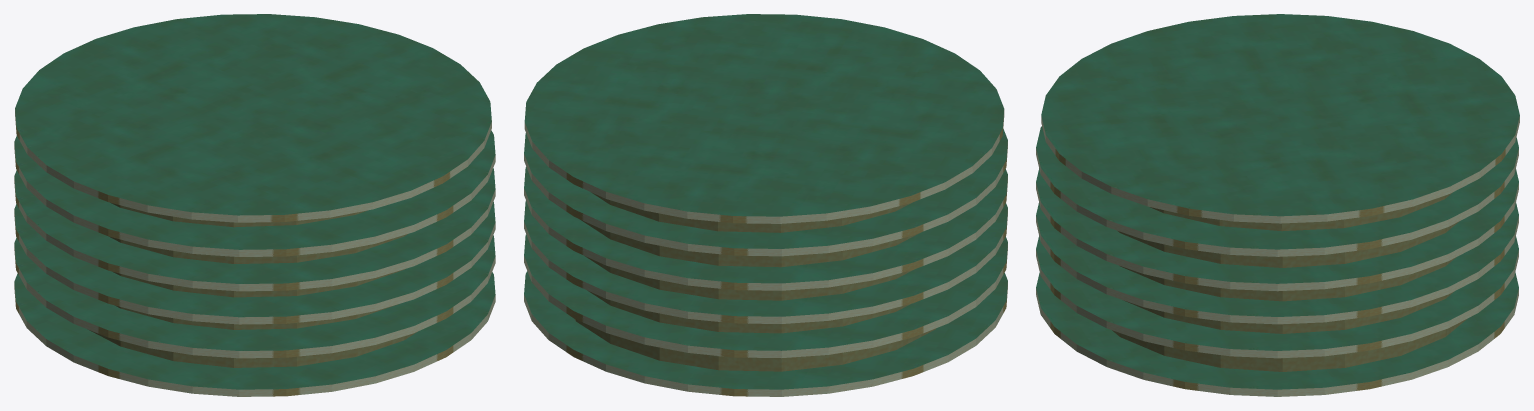
The picture shows the model from 3 angles, left to right: view 1: azimuth 30°, elevation 25°; view 2: azimuth 150°, elevation 25°; view 3: azimuth 270°, elevation 25°; orthographic projection.
Parts seen in each view (by area): view 1: Cylinder, Cylinder_5, Cylinder_1, Cylinder_4, Cylinder_2, Cylinder_3, Column__5_, Column__2_, Column__3_, Column__4_, Column_1_; view 2: Cylinder, Cylinder_5, Cylinder_4, Cylinder_2, Cylinder_1, Cylinder_3, Column__5_, Column__2_, Column__3_, Column__4_, Column_1_; view 3: Cylinder, Cylinder_5, Cylinder_1, Cylinder_4, Cylinder_2, Cylinder_3, Column__5_, Column__2_, Column__3_, Column__4_, Column_1_.
Boxes of the visible parts, x1=… form: Cylinder: x1=15, y1=14, x2=491, y2=222; Cylinder_5: x1=14, y1=272, x2=495, y2=396; Cylinder_1: x1=14, y1=130, x2=495, y2=256; Cylinder_4: x1=14, y1=235, x2=495, y2=358; Cylinder_2: x1=14, y1=168, x2=495, y2=291; Cylinder_3: x1=14, y1=202, x2=495, y2=324; Column__5_: x1=89, y1=330, x2=416, y2=367; Column__2_: x1=109, y1=234, x2=407, y2=263; Column__3_: x1=113, y1=269, x2=404, y2=297; Column__4_: x1=115, y1=304, x2=398, y2=329; Column_1_: x1=110, y1=202, x2=367, y2=227; Cylinder: x1=524, y1=14, x2=1004, y2=223; Cylinder_5: x1=524, y1=271, x2=1007, y2=396; Cylinder_4: x1=524, y1=234, x2=1007, y2=358; Cylinder_2: x1=524, y1=167, x2=1007, y2=290; Cylinder_1: x1=524, y1=129, x2=1007, y2=256; Cylinder_3: x1=524, y1=201, x2=1007, y2=323; Column__5_: x1=574, y1=319, x2=936, y2=371; Column__2_: x1=579, y1=219, x2=921, y2=267; Column__3_: x1=585, y1=256, x2=912, y2=300; Column__4_: x1=587, y1=290, x2=910, y2=333; Column_1_: x1=591, y1=192, x2=911, y2=232; Cylinder: x1=1041, y1=14, x2=1519, y2=223; Cylinder_5: x1=1036, y1=272, x2=1518, y2=396; Cylinder_1: x1=1036, y1=126, x2=1518, y2=256; Cylinder_4: x1=1036, y1=236, x2=1518, y2=358; Cylinder_2: x1=1036, y1=168, x2=1518, y2=291; Cylinder_3: x1=1036, y1=203, x2=1518, y2=324; Column__5_: x1=1112, y1=318, x2=1467, y2=371; Column__2_: x1=1118, y1=221, x2=1459, y2=267; Column__3_: x1=1120, y1=257, x2=1456, y2=301; Column__4_: x1=1124, y1=291, x2=1454, y2=333; Column_1_: x1=1150, y1=192, x2=1452, y2=231.
Bounding box in the file's own units: 1200 × 493 × 1202.
1 material, 1 textured.
